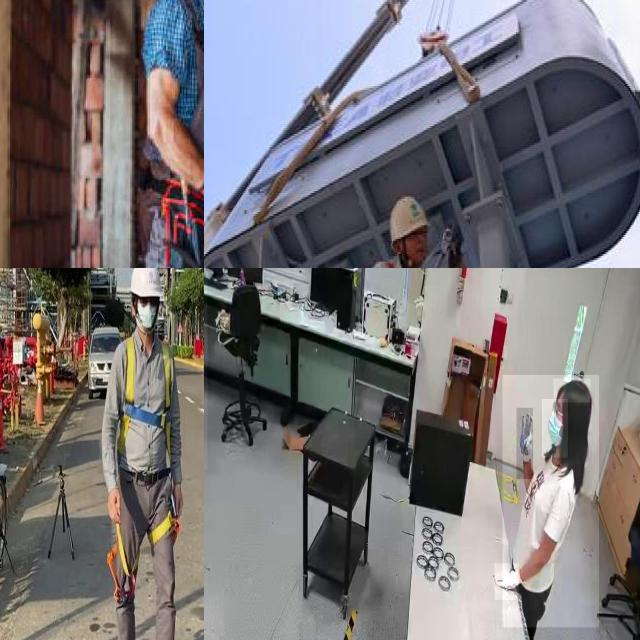Harness: (119, 337, 173, 454)
face_mask: (542, 399, 568, 457)
hand_glove: (517, 408, 533, 479), (494, 563, 520, 601)
head_nohelmet: (553, 378, 591, 404)
person: (502, 375, 600, 628), (118, 0, 204, 268)
